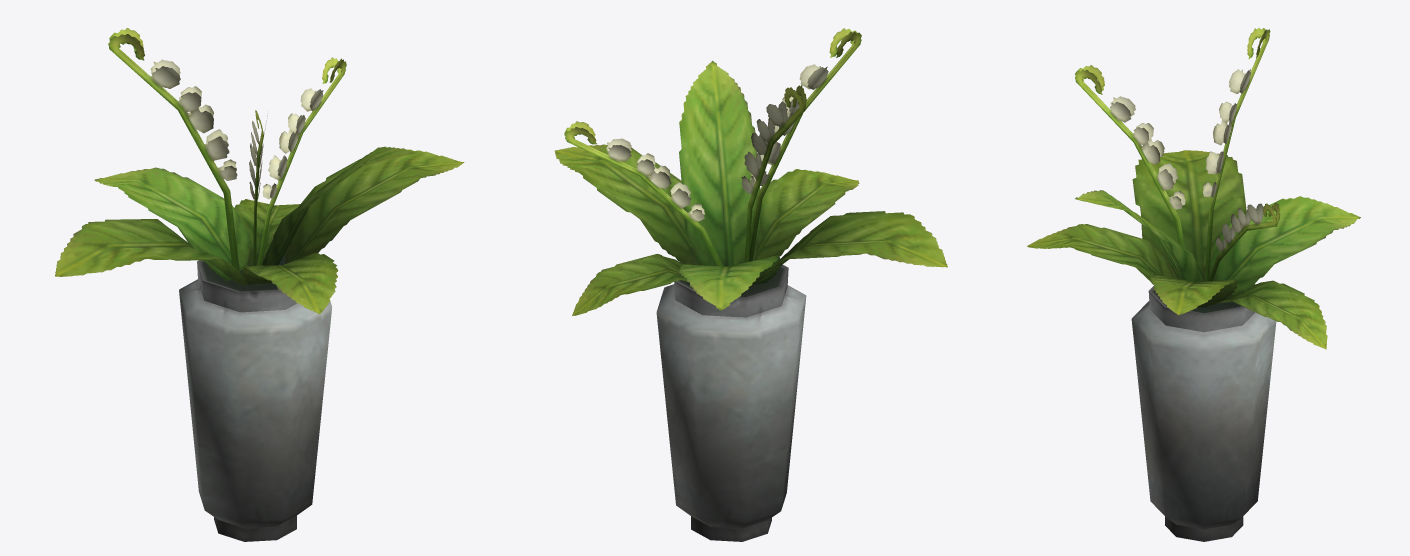
File: wm_灌木盆栽02.fbx
3 renders of one model, left to right at view 1: azimuth 30°, elevation 25°; view 2: azimuth 150°, elevation 25°; view 3: azimuth 270°, elevation 25°, orthographic. The views are drawn at different scales.
Visible parts, largest first — view 1: wm_灌木盆栽02; view 2: wm_灌木盆栽02; view 3: wm_灌木盆栽02.
Boxes of the visible parts, x1,y1,x2,y2 form: wm_灌木盆栽02: (55,28,464,541); wm_灌木盆栽02: (555,28,947,541); wm_灌木盆栽02: (1027,28,1360,541).
Size of the model in its own units: 259 by 295 by 220.
